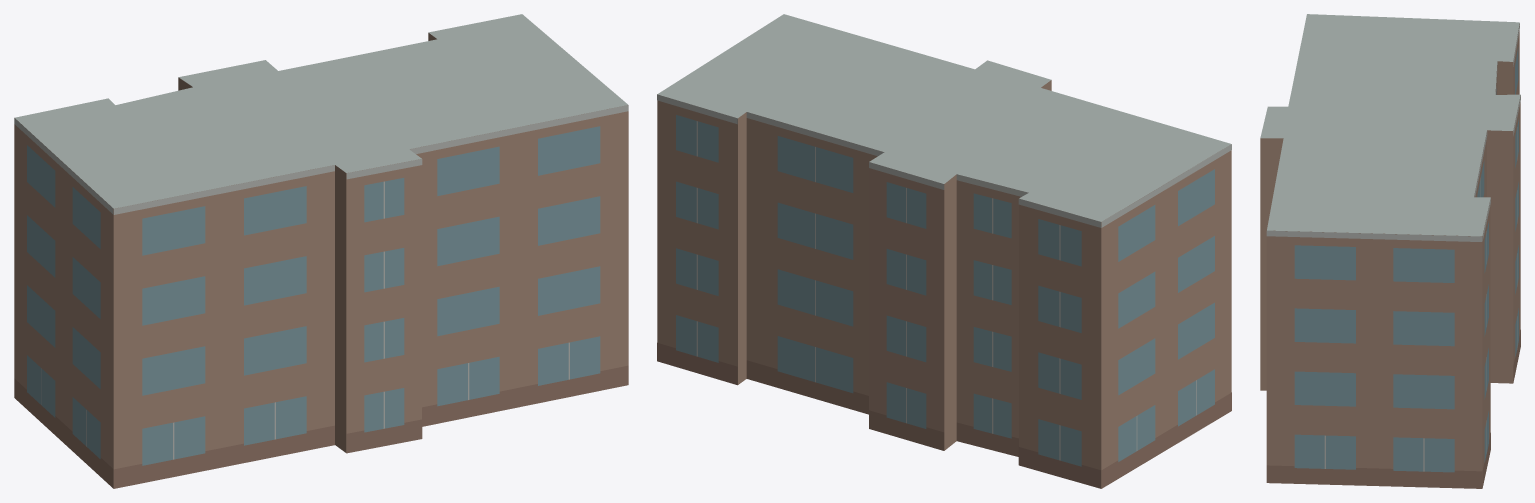
File: survey-upis-32604800.glb
The picture shows the model from 3 angles, left to right: view 1: azimuth 30°, elevation 25°; view 2: azimuth 150°, elevation 25°; view 3: azimuth 270°, elevation 25°; orthographic projection. The views are drawn at different scales.
Visible parts, largest first — view 1: survey-upis-32604800.tmp; view 2: survey-upis-32604800.tmp; view 3: survey-upis-32604800.tmp.
Part boxes in pixels (x1=…): survey-upis-32604800.tmp: x1=14, y1=14, x2=628, y2=488; survey-upis-32604800.tmp: x1=657, y1=14, x2=1231, y2=488; survey-upis-32604800.tmp: x1=1260, y1=14, x2=1520, y2=488.
Size of the model in its own units: 20.44 by 10.81 by 10.12.
